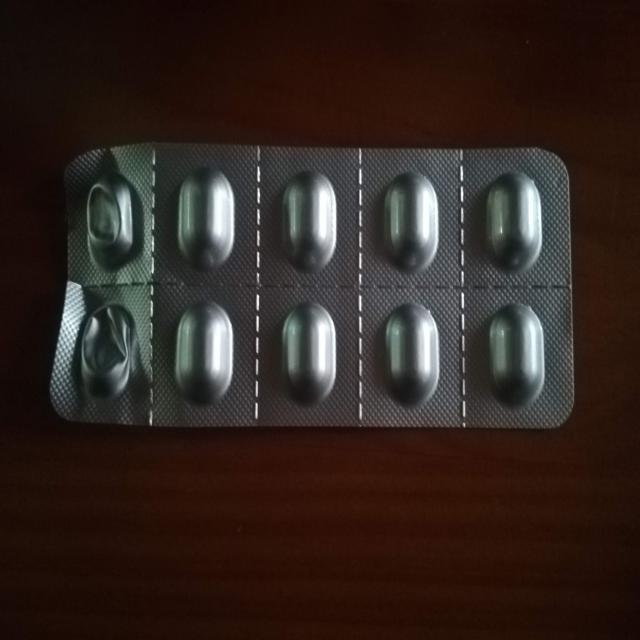Empty: (72, 294, 144, 408), (74, 166, 141, 275)
Pill: (167, 292, 242, 418), (170, 160, 240, 278), (276, 296, 345, 413), (271, 164, 340, 278), (479, 164, 547, 276), (484, 299, 550, 414), (373, 166, 438, 276), (381, 305, 443, 412)
